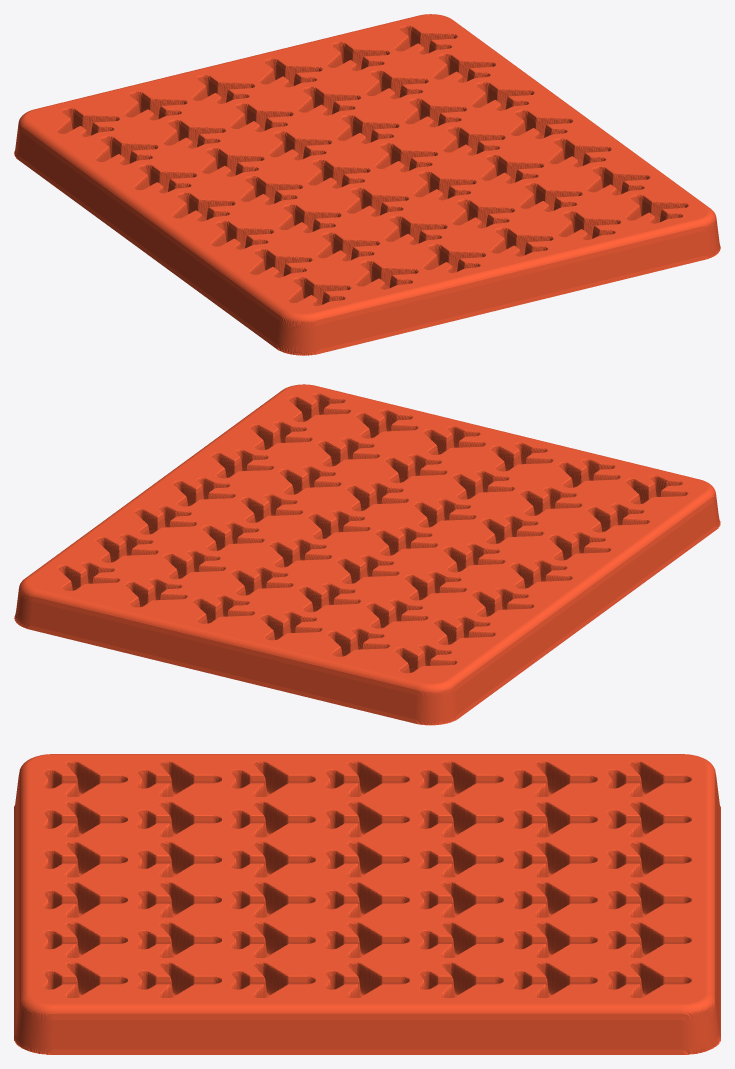
Rendered from mold.glb.
The picture shows the model from 3 angles, top to bottom: view 1: azimuth 30°, elevation 25°; view 2: azimuth 150°, elevation 25°; view 3: azimuth 270°, elevation 25°; orthographic projection. The views are drawn at different scales.
Parts seen in each view (by area): view 1: geometry_0; view 2: geometry_0; view 3: geometry_0.
Part boxes in pixels (x1,y1,x2,y2): geometry_0: (14, 14, 720, 355); geometry_0: (14, 384, 720, 725); geometry_0: (14, 754, 720, 1054).
Bounding box in the file's own units: 0.1437 × 0.0114 × 0.1638.
